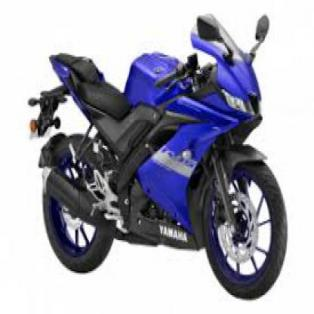Motocicleta: (25, 5, 290, 302)
